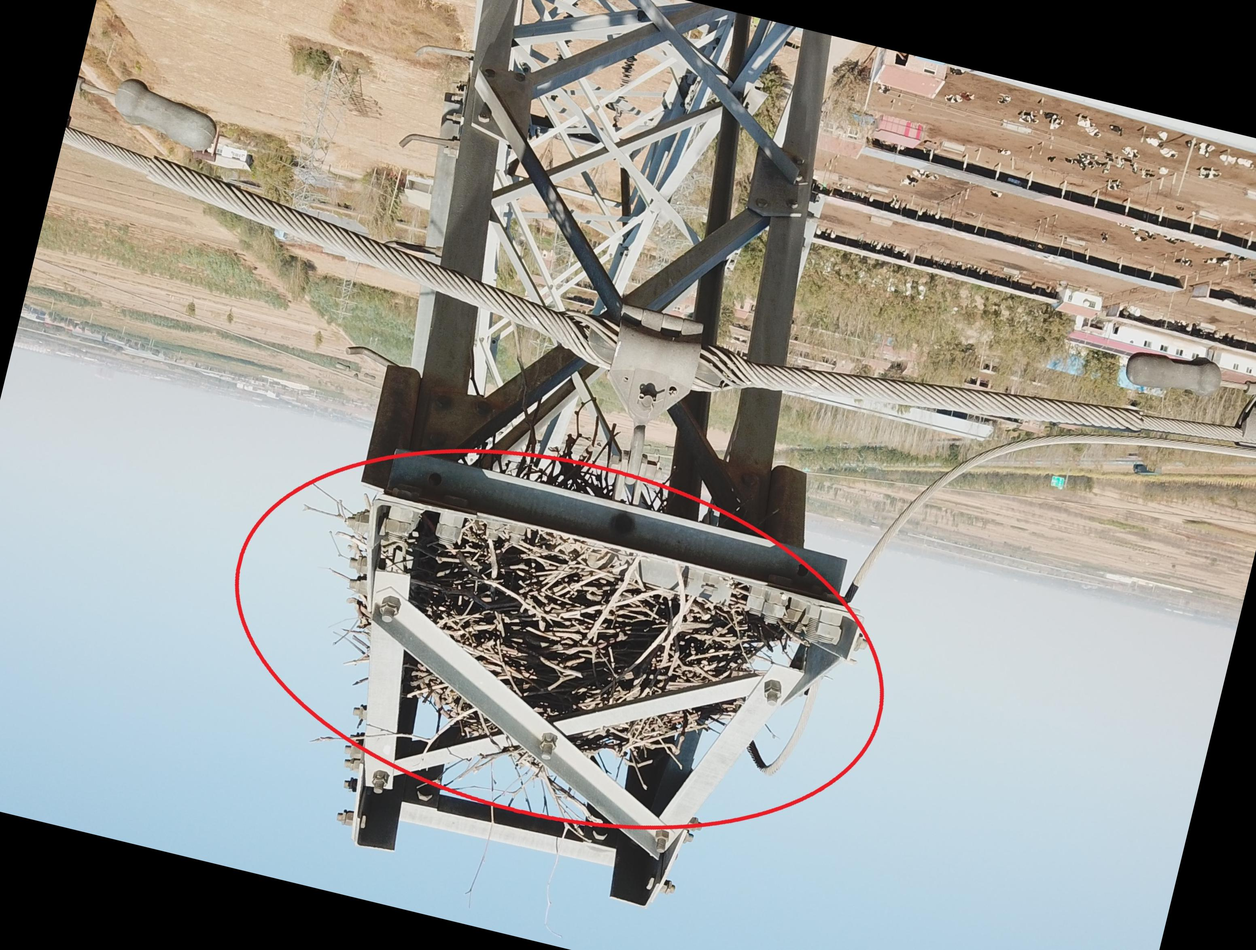damper: (0, 15, 242, 192), (1102, 320, 1256, 488)
